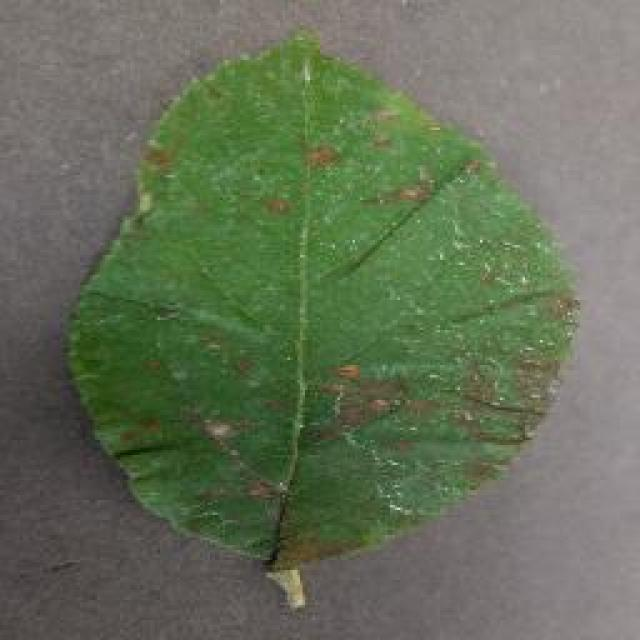App_Cedar_apple_rust: (272, 130, 438, 231), (448, 341, 564, 445), (302, 348, 408, 452)
